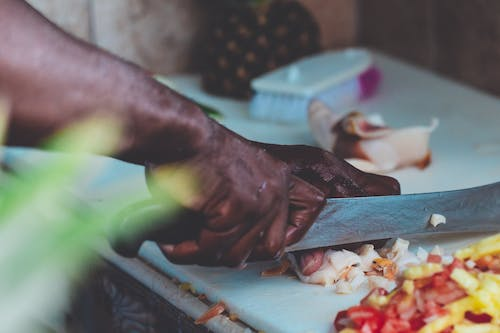knife: (104, 179, 500, 260)
